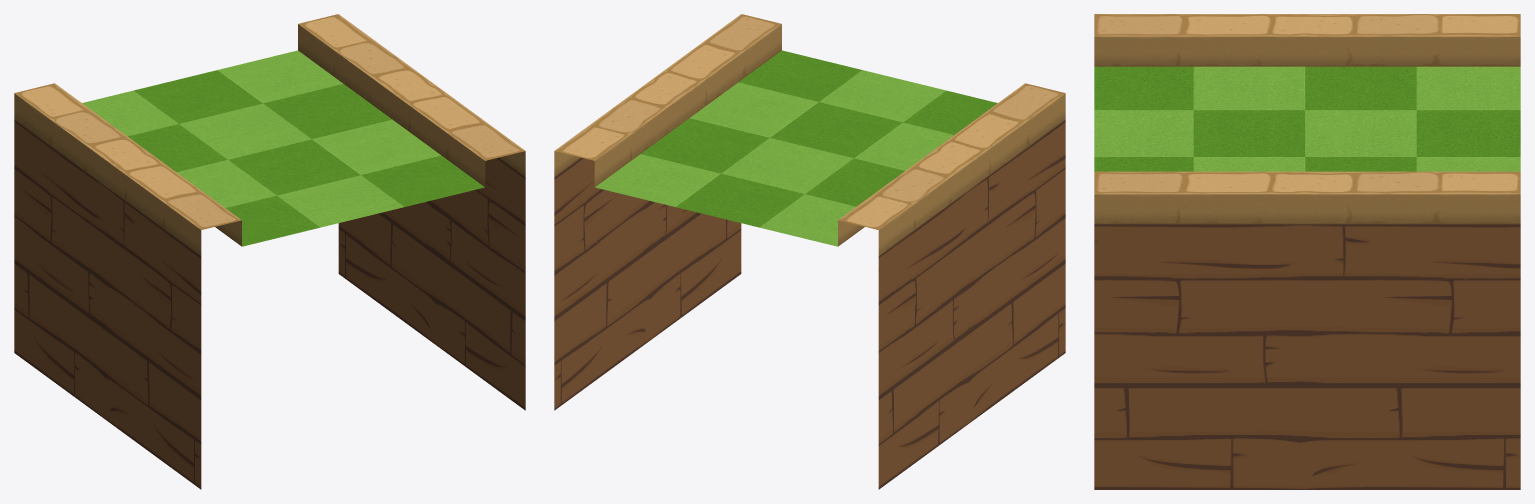
File: tile05.FBX
The picture shows the model from 3 angles, left to right: view 1: azimuth 30°, elevation 25°; view 2: azimuth 150°, elevation 25°; view 3: azimuth 270°, elevation 25°; orthographic projection. The views are drawn at different scales.
Visible parts, largest first — view 1: tle05_walls, tile05_floor; view 2: tle05_walls, tile05_floor; view 3: tle05_walls, tile05_floor.
Boxes of the visible parts, bbox=[...] form: tle05_walls: bbox=[14, 14, 525, 489]; tile05_floor: bbox=[82, 50, 484, 246]; tle05_walls: bbox=[554, 14, 1065, 489]; tile05_floor: bbox=[595, 50, 997, 246]; tle05_walls: bbox=[1094, 14, 1520, 489]; tile05_floor: bbox=[1094, 66, 1520, 171].
Size of the model in its own units: 1280 by 980 by 1280.
